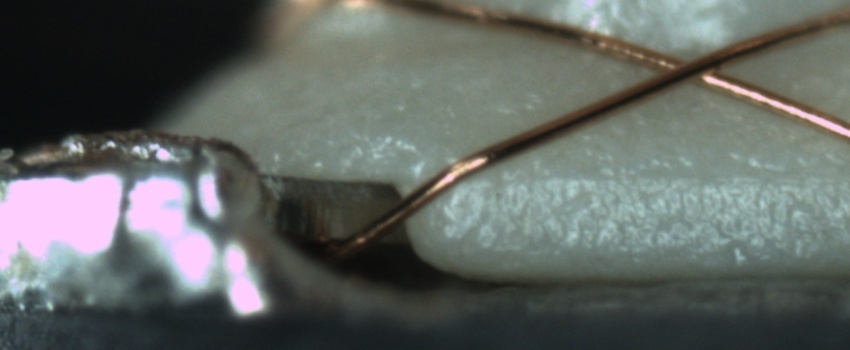CL: (631, 37, 762, 93)
DL: (494, 147, 849, 210)
